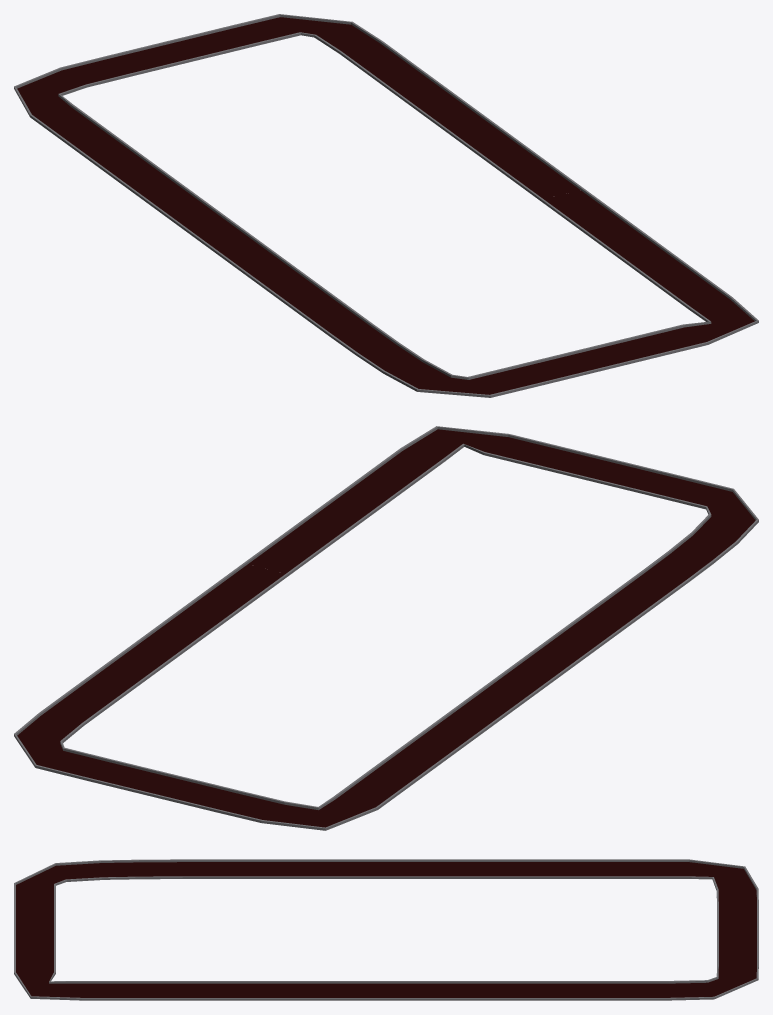
Rendered from Road.fbx.
The picture shows the model from 3 angles, top to bottom: view 1: azimuth 30°, elevation 25°; view 2: azimuth 150°, elevation 25°; view 3: azimuth 270°, elevation 25°; orthographic projection. The views are drawn at different scales.
Parts seen in each view (by area): view 1: Road; view 2: Road; view 3: Road.
Boxes of the visible parts, bbox=[...] form: Road: bbox=[14, 14, 758, 397]; Road: bbox=[14, 426, 758, 830]; Road: bbox=[14, 859, 758, 1000].
Bounding box in the file's own units: 3144 × 20 × 7107.
